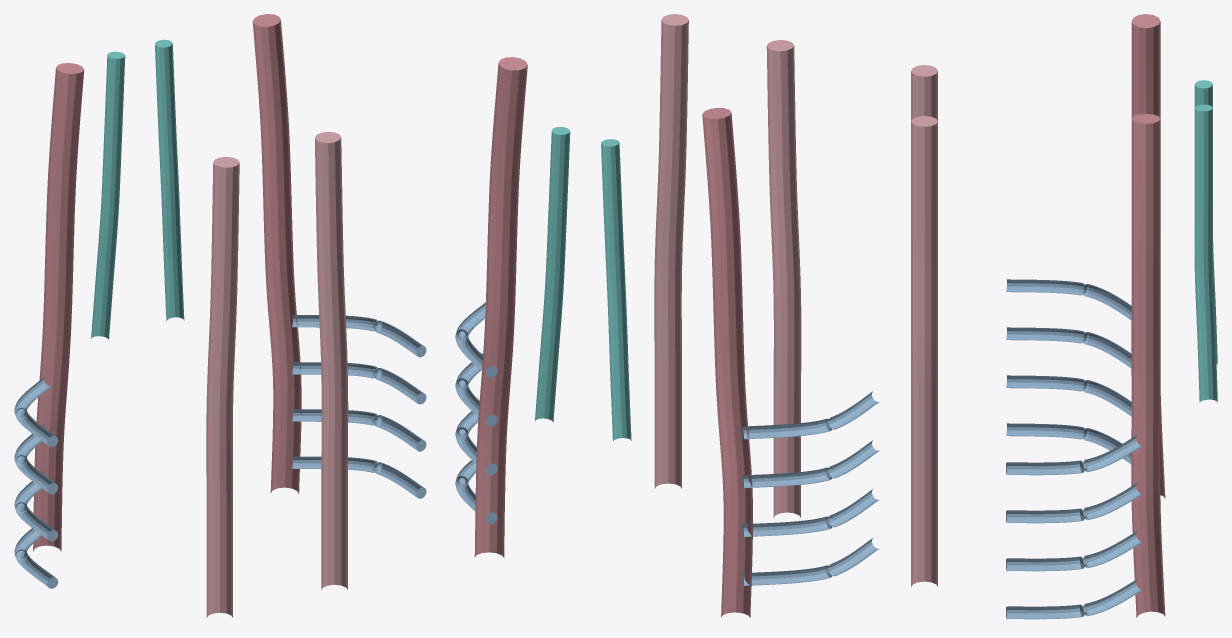
Rendered from embryo_etapa1.glb.
The picture shows the model from 3 angles, left to right: view 1: azimuth 30°, elevation 25°; view 2: azimuth 150°, elevation 25°; view 3: azimuth 270°, elevation 25°; orthographic projection. The views are drawn at different scales.
Parts seen in each view (by area): view 1: Aorta dorsal primitiva — lado direito, Aorta dorsal primitiva — lado esquerdo, Aorta ventral primitiva — lado esquerdo, Aorta ventral primitiva — lado direito, Artéria longitudinal neural — L, Artéria longitudinal neural — R, Artéria intersegmentar cervical 2 — R, Artéria intersegmentar cervical 1 — R, Artéria intersegmentar cervical 3 — R, Artéria intersegmentar cervical 4 — R, Artéria intersegmentar cervical 1 — L, Artéria intersegmentar cervical 4 — L (+2 smaller); view 2: Aorta dorsal primitiva — lado esquerdo, Aorta dorsal primitiva — lado direito, Aorta ventral primitiva — lado direito, Aorta ventral primitiva — lado esquerdo, Artéria longitudinal neural — L, Artéria longitudinal neural — R, Artéria intersegmentar cervical 1 — L, Artéria intersegmentar cervical 2 — L, Artéria intersegmentar cervical 3 — L, Artéria intersegmentar cervical 4 — L, Artéria intersegmentar cervical 1 — R, Artéria intersegmentar cervical 2 — R (+2 smaller); view 3: Aorta dorsal primitiva — lado direito, Aorta ventral primitiva — lado direito, Artéria longitudinal neural — R, Aorta dorsal primitiva — lado esquerdo, Artéria intersegmentar cervical 4 — R, Artéria intersegmentar cervical 3 — R, Artéria intersegmentar cervical 2 — R, Artéria intersegmentar cervical 1 — R, Artéria intersegmentar cervical 1 — L, Artéria intersegmentar cervical 3 — L, Artéria intersegmentar cervical 2 — L, Artéria intersegmentar cervical 4 — L (+2 smaller).
Part boxes in pixels (bbox=[...]): Aorta dorsal primitiva — lado direito: bbox=[252, 14, 301, 493]; Aorta dorsal primitiva — lado esquerdo: bbox=[33, 63, 84, 551]; Aorta ventral primitiva — lado esquerdo: bbox=[206, 156, 239, 617]; Aorta ventral primitiva — lado direito: bbox=[315, 131, 348, 589]; Artéria longitudinal neural — L: bbox=[91, 51, 125, 339]; Artéria longitudinal neural — R: bbox=[155, 39, 184, 321]; Artéria intersegmentar cervical 2 — R: bbox=[292, 362, 426, 404]; Artéria intersegmentar cervical 1 — R: bbox=[292, 315, 426, 357]; Artéria intersegmentar cervical 3 — R: bbox=[292, 409, 426, 451]; Artéria intersegmentar cervical 4 — R: bbox=[292, 456, 426, 498]; Artéria intersegmentar cervical 1 — L: bbox=[14, 377, 58, 447]; Artéria intersegmentar cervical 4 — L: bbox=[14, 518, 58, 588]; Aorta dorsal primitiva — lado esquerdo: bbox=[702, 108, 752, 617]; Aorta dorsal primitiva — lado direito: bbox=[474, 57, 527, 557]; Aorta ventral primitiva — lado direito: bbox=[654, 14, 688, 488]; Aorta ventral primitiva — lado esquerdo: bbox=[766, 40, 801, 517]; Artéria longitudinal neural — L: bbox=[601, 139, 631, 441]; Artéria longitudinal neural — R: bbox=[535, 126, 570, 422]; Artéria intersegmentar cervical 1 — L: bbox=[742, 391, 879, 439]; Artéria intersegmentar cervical 2 — L: bbox=[742, 440, 879, 488]; Artéria intersegmentar cervical 3 — L: bbox=[742, 488, 879, 537]; Artéria intersegmentar cervical 4 — L: bbox=[742, 538, 879, 585]; Artéria intersegmentar cervical 1 — R: bbox=[455, 302, 497, 377]; Artéria intersegmentar cervical 2 — R: bbox=[455, 353, 497, 426]; Aorta dorsal primitiva — lado direito: bbox=[1131, 113, 1165, 617]; Aorta ventral primitiva — lado direito: bbox=[911, 116, 937, 586]; Artéria longitudinal neural — R: bbox=[1194, 104, 1217, 402]; Aorta dorsal primitiva — lado esquerdo: bbox=[1131, 14, 1165, 498]; Artéria intersegmentar cervical 4 — R: bbox=[1006, 578, 1142, 619]; Artéria intersegmentar cervical 3 — R: bbox=[1006, 530, 1142, 571]; Artéria intersegmentar cervical 2 — R: bbox=[1006, 482, 1142, 523]; Artéria intersegmentar cervical 1 — R: bbox=[1006, 435, 1142, 475]; Artéria intersegmentar cervical 1 — L: bbox=[1006, 279, 1131, 319]; Artéria intersegmentar cervical 3 — L: bbox=[1006, 375, 1131, 416]; Artéria intersegmentar cervical 2 — L: bbox=[1006, 327, 1131, 367]; Artéria intersegmentar cervical 4 — L: bbox=[1006, 423, 1131, 464].
Size of the model in its own units: 4.63 by 5.62 by 3.18.
